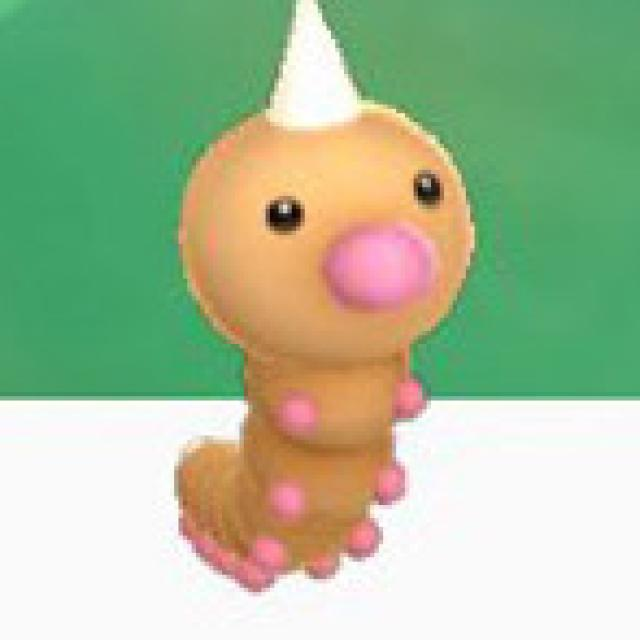Weedle: (169, 3, 477, 590)
